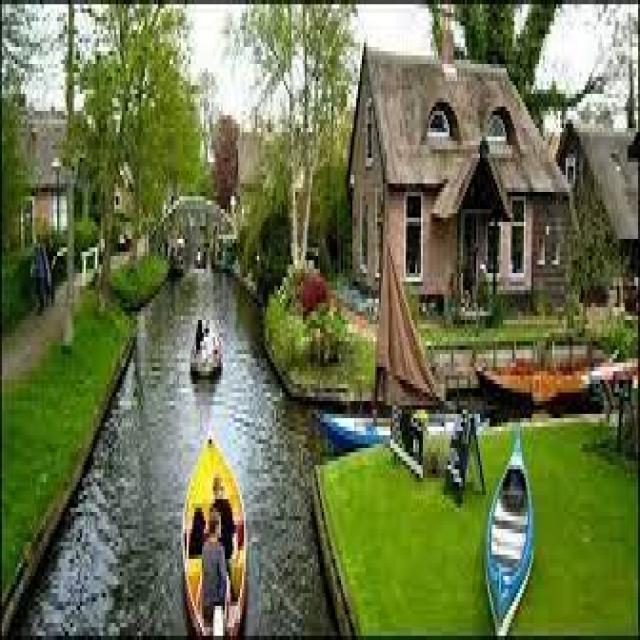ship2: (182, 434, 246, 639), (485, 440, 535, 639)
